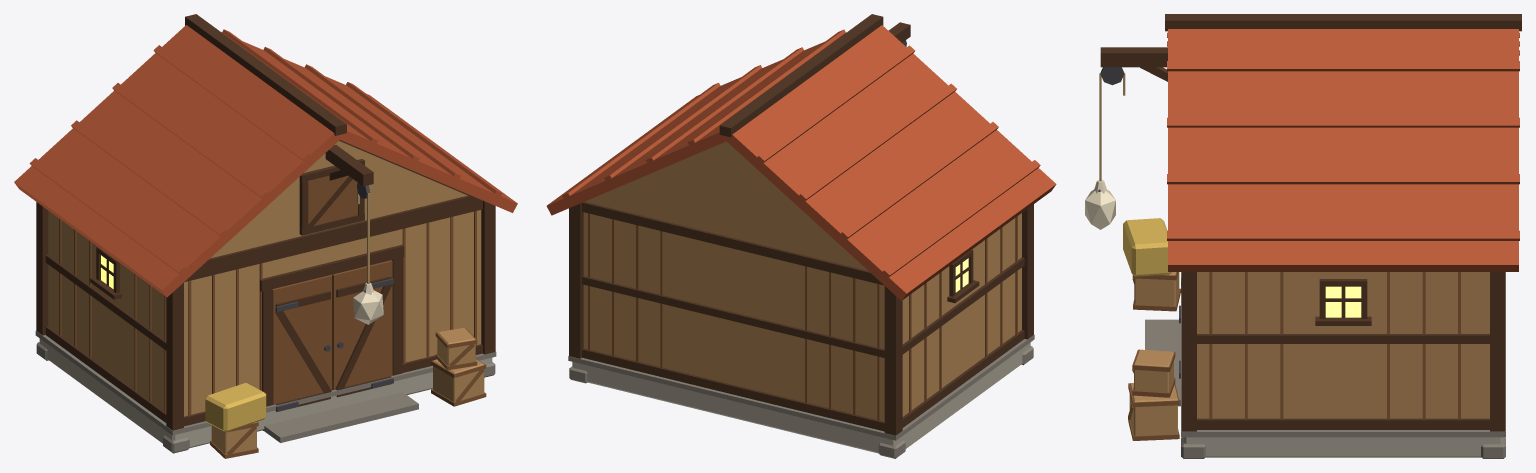
File: Lagerhaus.fbx
3 renders of one model, left to right at view 1: azimuth 30°, elevation 25°; view 2: azimuth 150°, elevation 25°; view 3: azimuth 270°, elevation 25°, orthographic. The views are drawn at different scales.
Parts seen in each view (by area): view 1: Lagerhaus; view 2: Lagerhaus; view 3: Lagerhaus.
Part boxes in pixels (<box>): Lagerhaus: <box>14,14,517,458</box>; Lagerhaus: <box>546,14,1056,458</box>; Lagerhaus: <box>1085,14,1521,458</box>.
Bounding box in the file's own units: 8.22 × 6.5 × 7.37.
